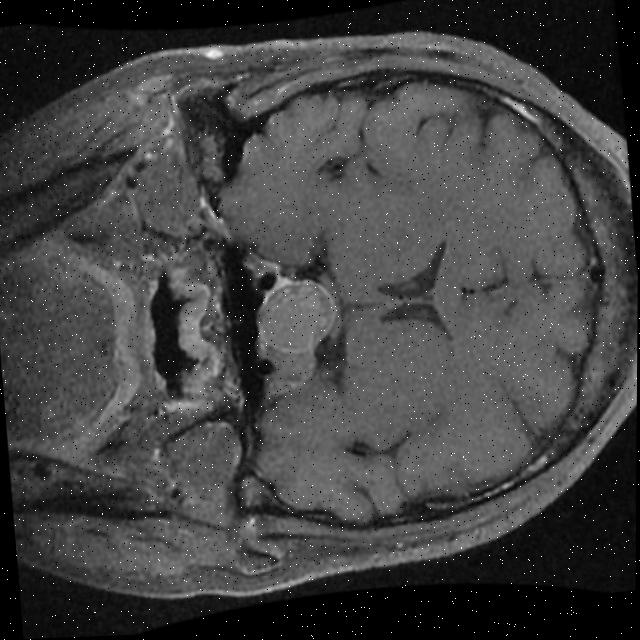Pituitary: (248, 276, 339, 362)
